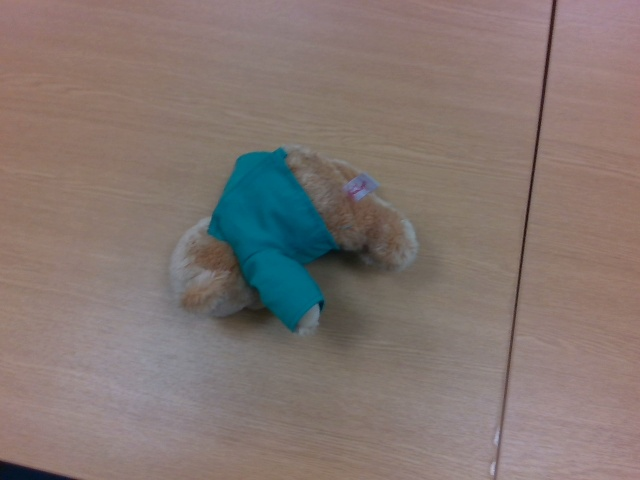teddy: (170, 144, 419, 337)
